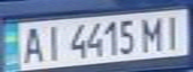1: (103, 18, 121, 56)
4: (84, 19, 106, 58), (66, 20, 87, 60)
5: (118, 16, 142, 55)
A: (18, 24, 48, 64)
I: (157, 11, 187, 51), (39, 21, 66, 63)
M: (136, 14, 169, 53)
